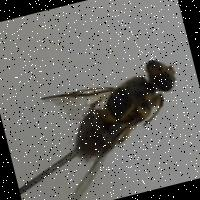Oriental-fruit-fly: (27, 47, 200, 200)
